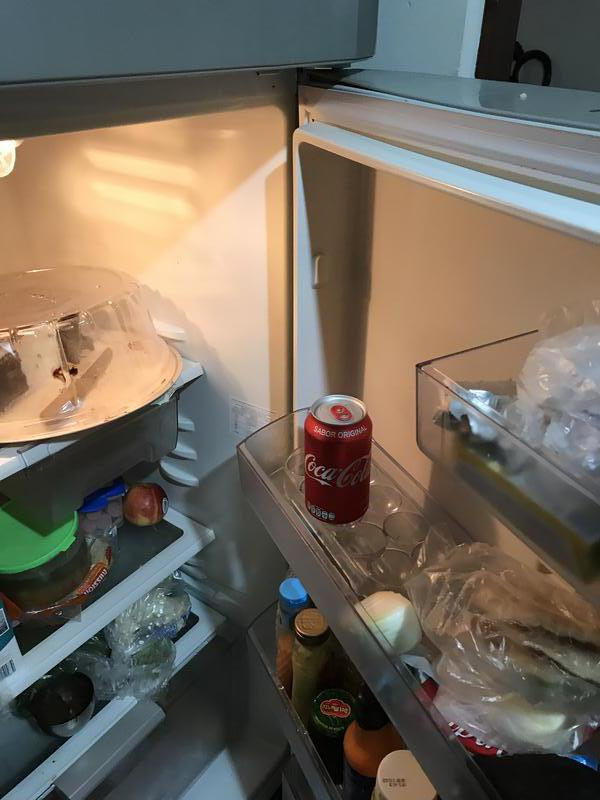coca_cola: (302, 397, 374, 524)
